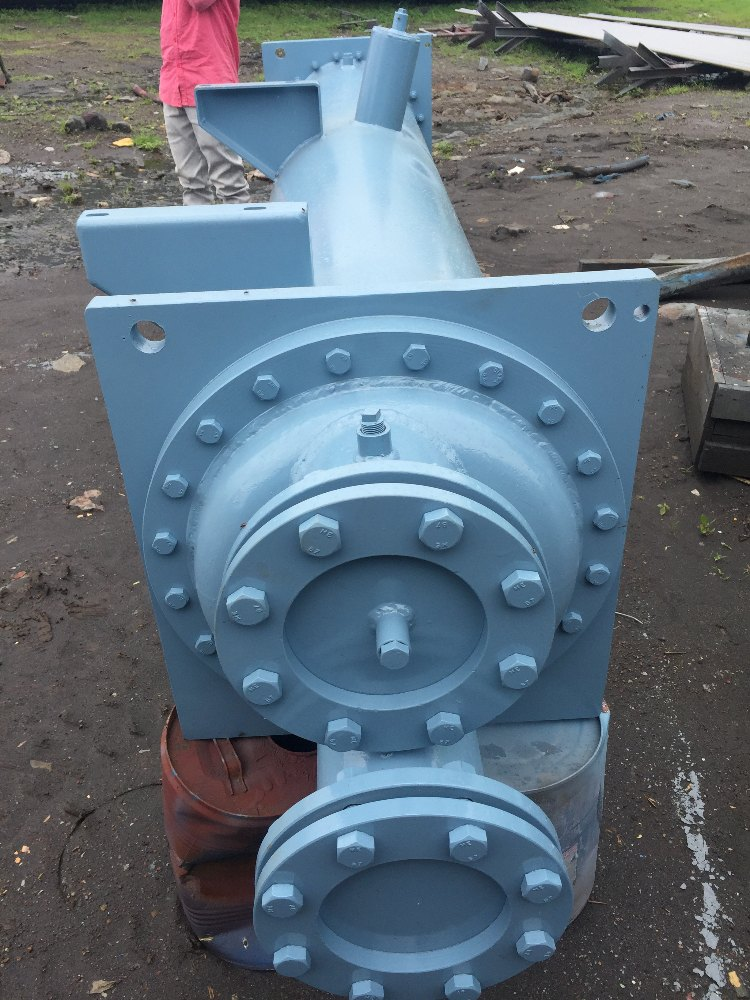bolt_a: (416, 502, 466, 556), (497, 564, 546, 614), (220, 583, 272, 630), (296, 511, 343, 562), (442, 820, 490, 866), (517, 864, 565, 908), (497, 649, 540, 697), (510, 927, 561, 967), (239, 665, 285, 709), (266, 942, 318, 980), (335, 828, 377, 872), (260, 880, 307, 919), (320, 714, 363, 756), (422, 708, 467, 748), (376, 639, 412, 674), (147, 526, 182, 560), (400, 339, 434, 374), (320, 343, 353, 379), (250, 371, 283, 403), (193, 417, 227, 447), (477, 357, 507, 391), (536, 397, 567, 429), (591, 503, 622, 535), (580, 560, 612, 591), (575, 444, 604, 478), (158, 470, 190, 500), (161, 584, 192, 614)
vague: (190, 628, 220, 660), (559, 610, 585, 638)
